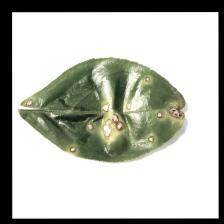canker: (28, 92, 176, 156)
